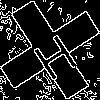H: (25, 25, 81, 83)
